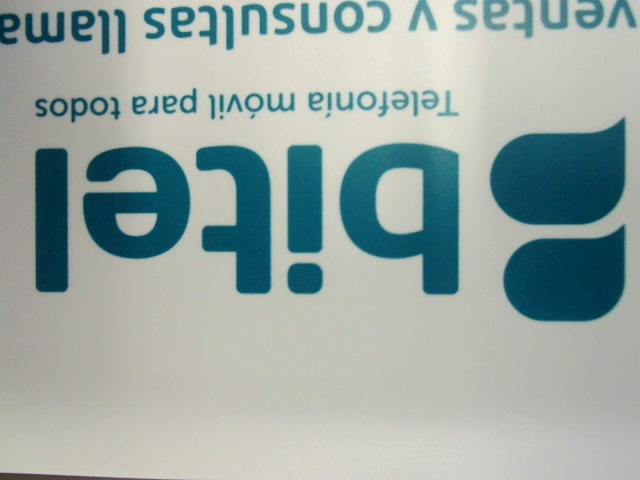BE_bitel: (23, 126, 629, 322)
